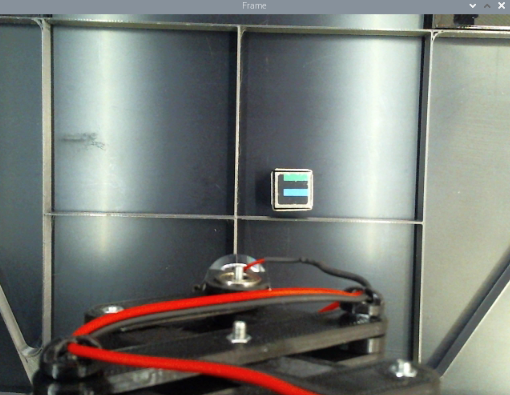Cube: (265, 161, 317, 218)
